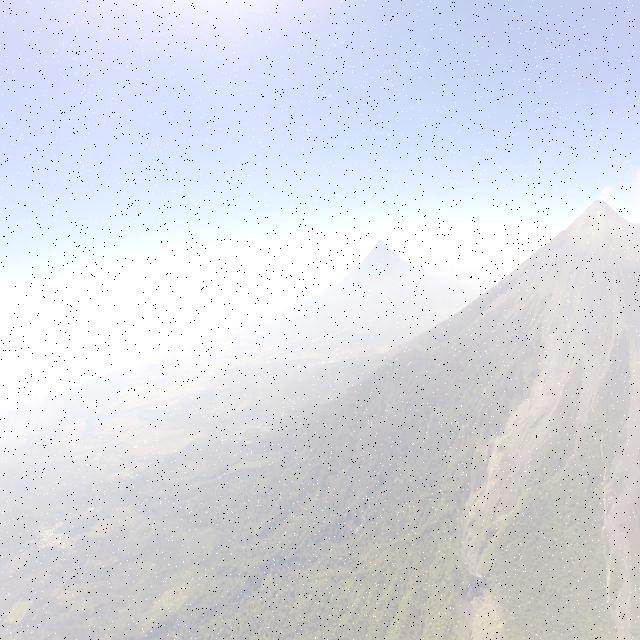Summit: (565, 195, 638, 238)
